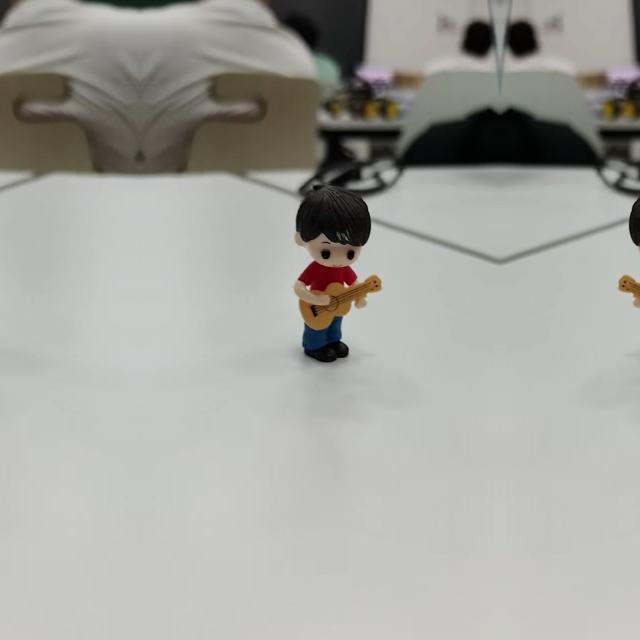man cloth: (296, 260, 359, 296)
man head: (294, 180, 372, 266), (627, 179, 640, 266)
trousers: (304, 310, 351, 368)
